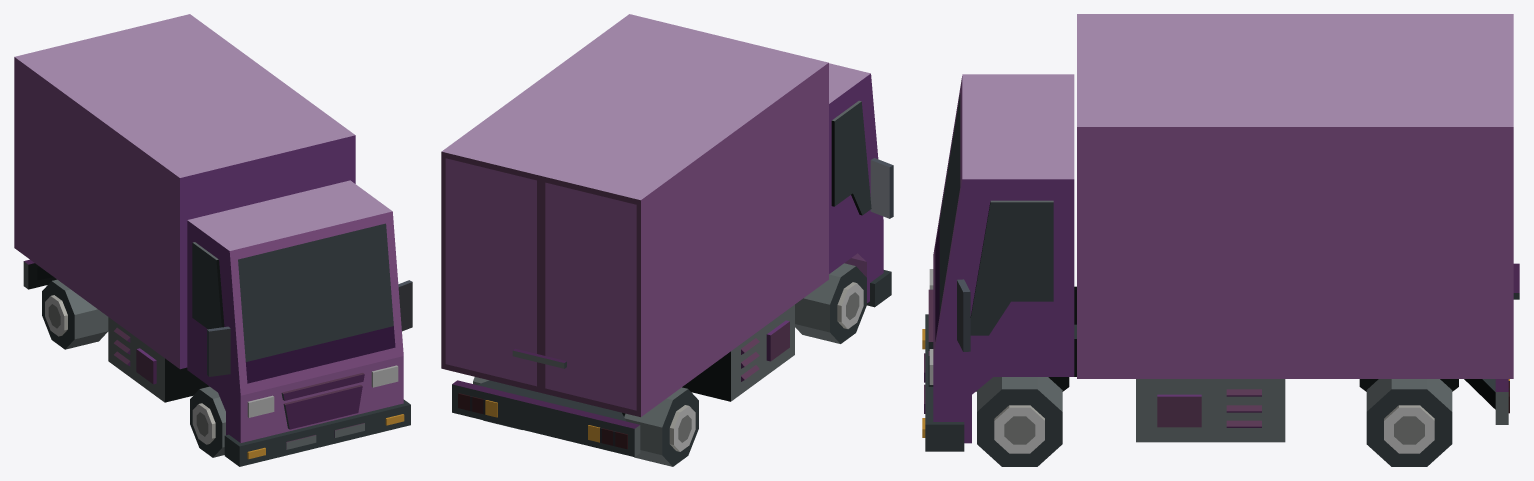
File: TB_CITY_Car_Truck_E.FBX
3 views of the same model, side by side, from view 1: azimuth 30°, elevation 25°; view 2: azimuth 150°, elevation 25°; view 3: azimuth 270°, elevation 25° (orthographic). The views are drawn at different scales.
Visible parts, largest first — view 1: TB_CITY_Car_Truck_E, TB_Car_Truck_Wheel018, TB_Car_Truck_Wheel020; view 2: TB_CITY_Car_Truck_E, TB_Car_Truck_Wheel020, TB_Car_Truck_Wheel018; view 3: TB_CITY_Car_Truck_E, TB_Car_Truck_Wheel019, TB_Car_Truck_Wheel017.
Boxes of the visible parts, box(x1,y1,x2,y2) form: TB_CITY_Car_Truck_E: box(14, 14, 412, 466); TB_Car_Truck_Wheel018: box(42, 279, 108, 349); TB_Car_Truck_Wheel020: box(190, 386, 225, 457); TB_CITY_Car_Truck_E: box(441, 14, 893, 457); TB_Car_Truck_Wheel020: box(795, 263, 866, 343); TB_Car_Truck_Wheel018: box(624, 387, 698, 466); TB_CITY_Car_Truck_E: box(922, 14, 1519, 451); TB_Car_Truck_Wheel019: box(977, 377, 1062, 466); TB_Car_Truck_Wheel017: box(1366, 379, 1452, 466).
Size of the model in its own units: 4.17 by 5.09 by 8.03.
